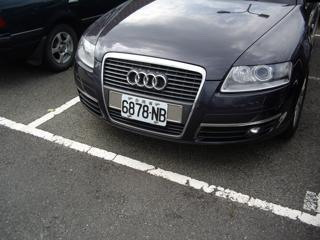plate: (118, 94, 168, 128)
